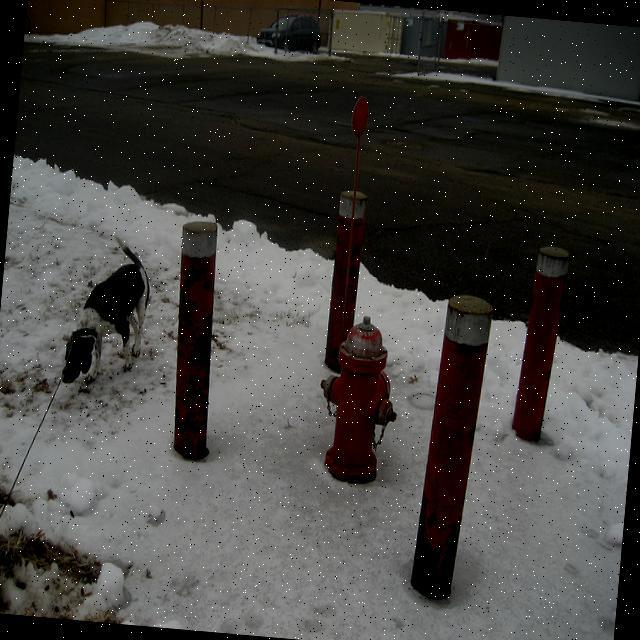fire_hydrant: (312, 315, 405, 485)
